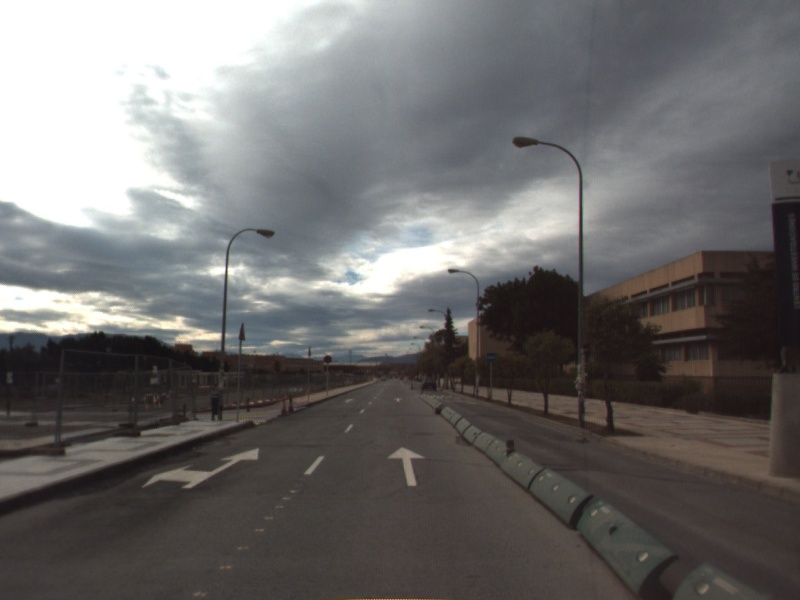STRAIGHT: (385, 444, 428, 488)
STRAIGHT_LEFT: (140, 446, 261, 491)
